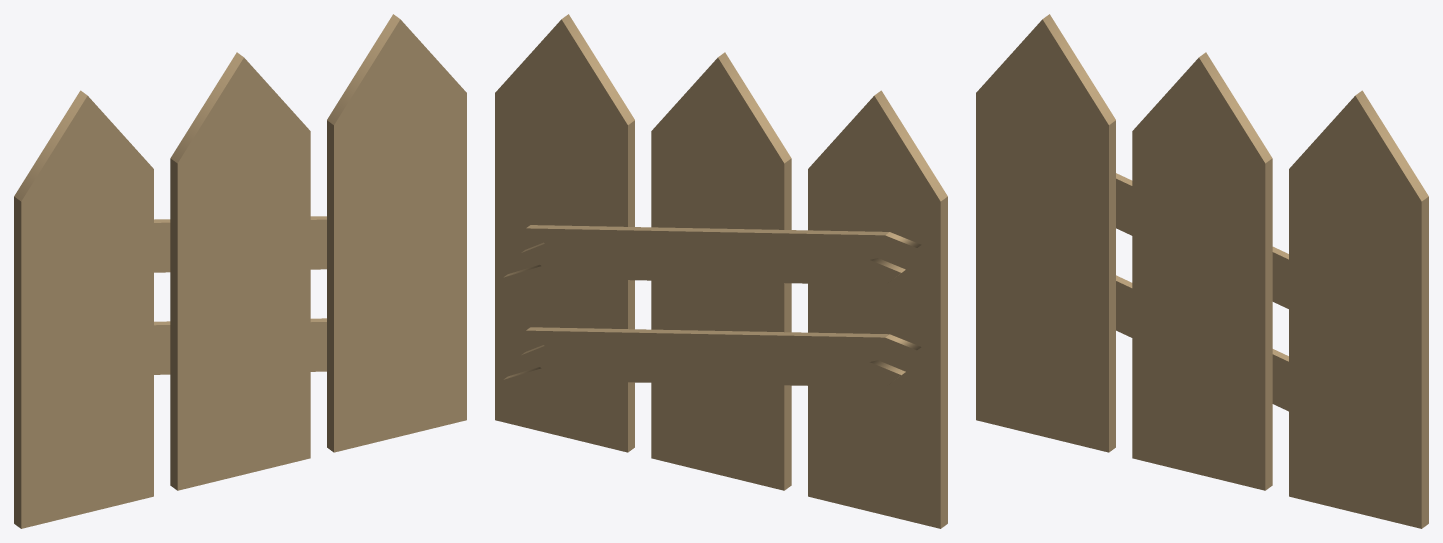
Rendered from lesbarriere.fbx.
3 renders of one model, left to right at view 1: azimuth 30°, elevation 25°; view 2: azimuth 150°, elevation 25°; view 3: azimuth 330°, elevation 25°, orthographic.
Visible parts, largest first — view 1: pCube8; view 2: pCube8; view 3: pCube8.
Part boxes in pixels (left/top/right/bottom): pCube8: left=14, top=14, right=466, bottom=528; pCube8: left=495, top=14, right=947, bottom=528; pCube8: left=976, top=14, right=1428, bottom=528.
Size of the model in its own units: 2.85 by 2.55 by 0.1455.
